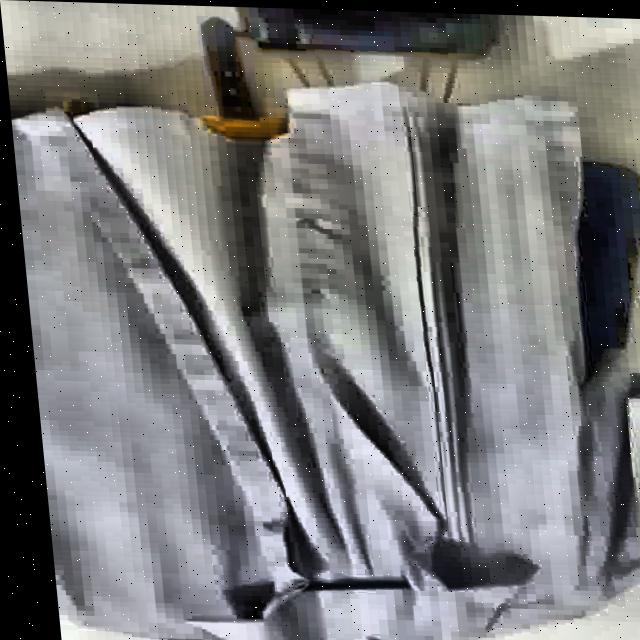clothes: (12, 60, 640, 640)
